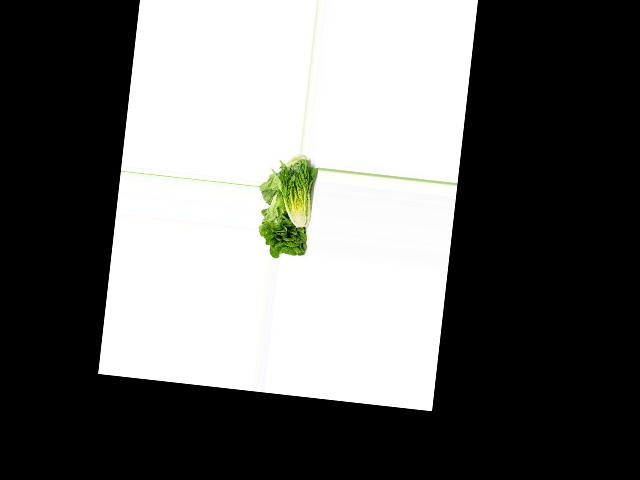lettuce: (256, 193, 315, 259)
